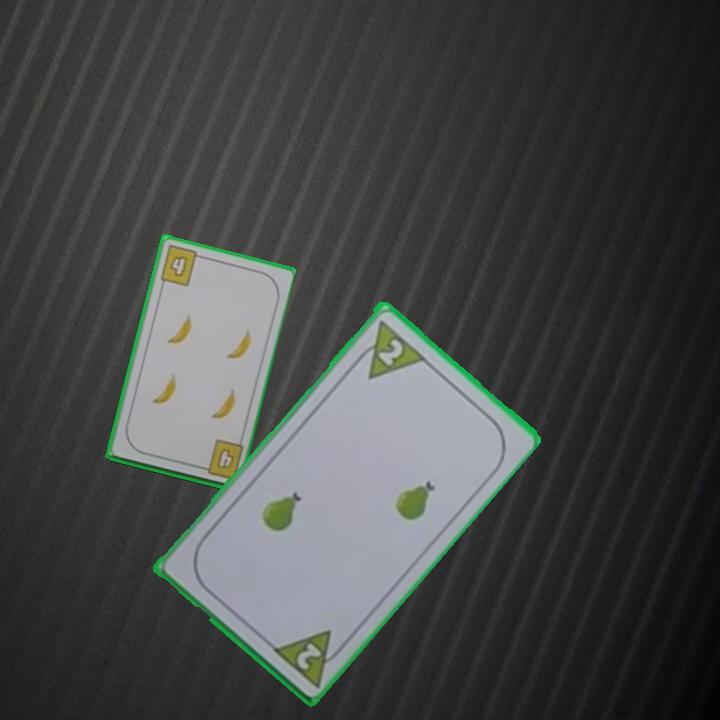2p: (348, 315, 428, 383), (267, 625, 350, 689)
4b: (156, 241, 206, 289), (195, 436, 246, 483)
